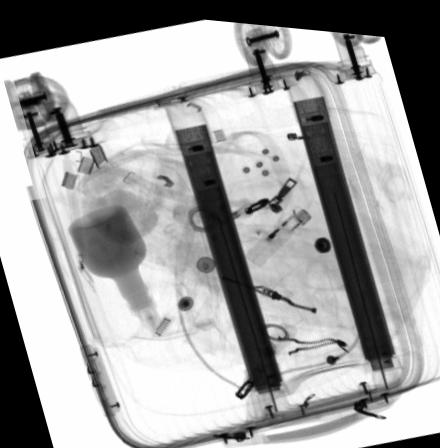Lighter: (243, 198, 312, 262)
